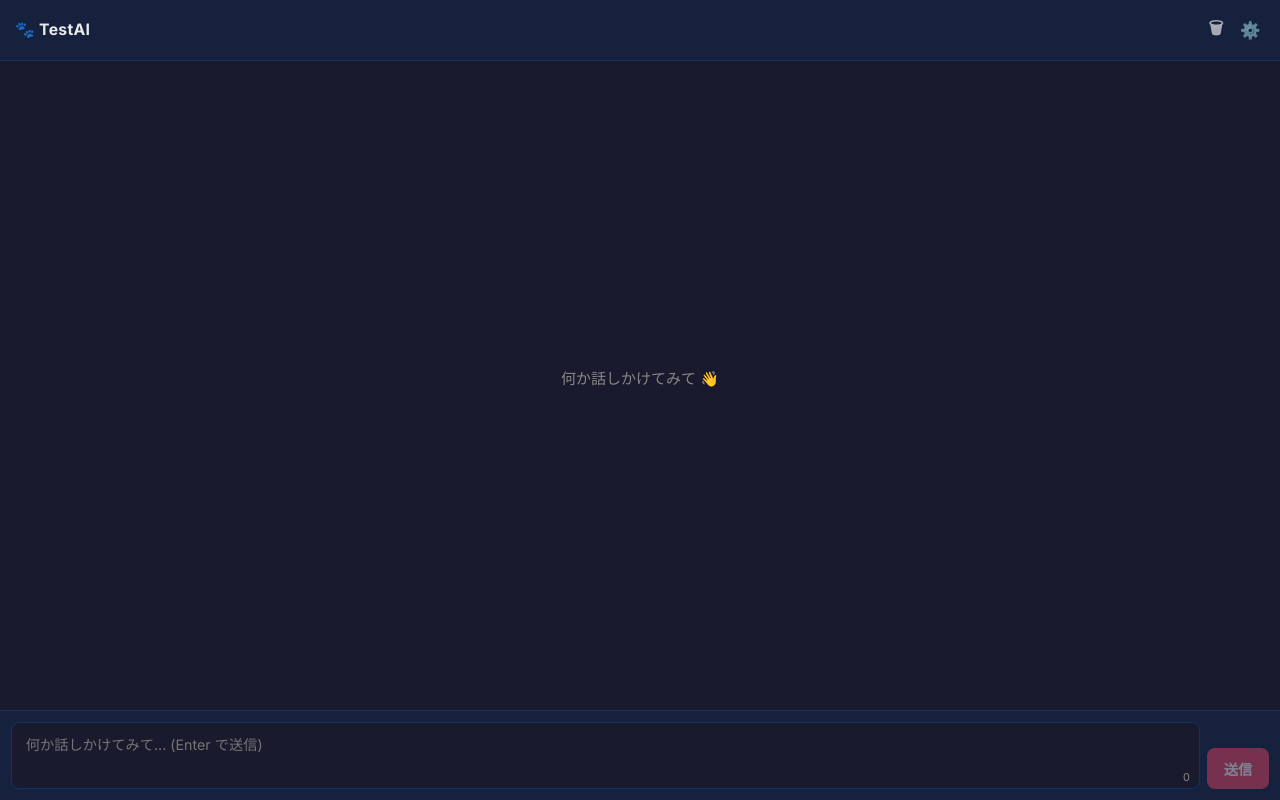
Scenario: Character counter › updates count as user types
Type "hello" into the text box with placeholder "何か話しかけてみて... (Enter で送信)".
click(606, 755); type("hello")  # box 11,722 -> 1200,789
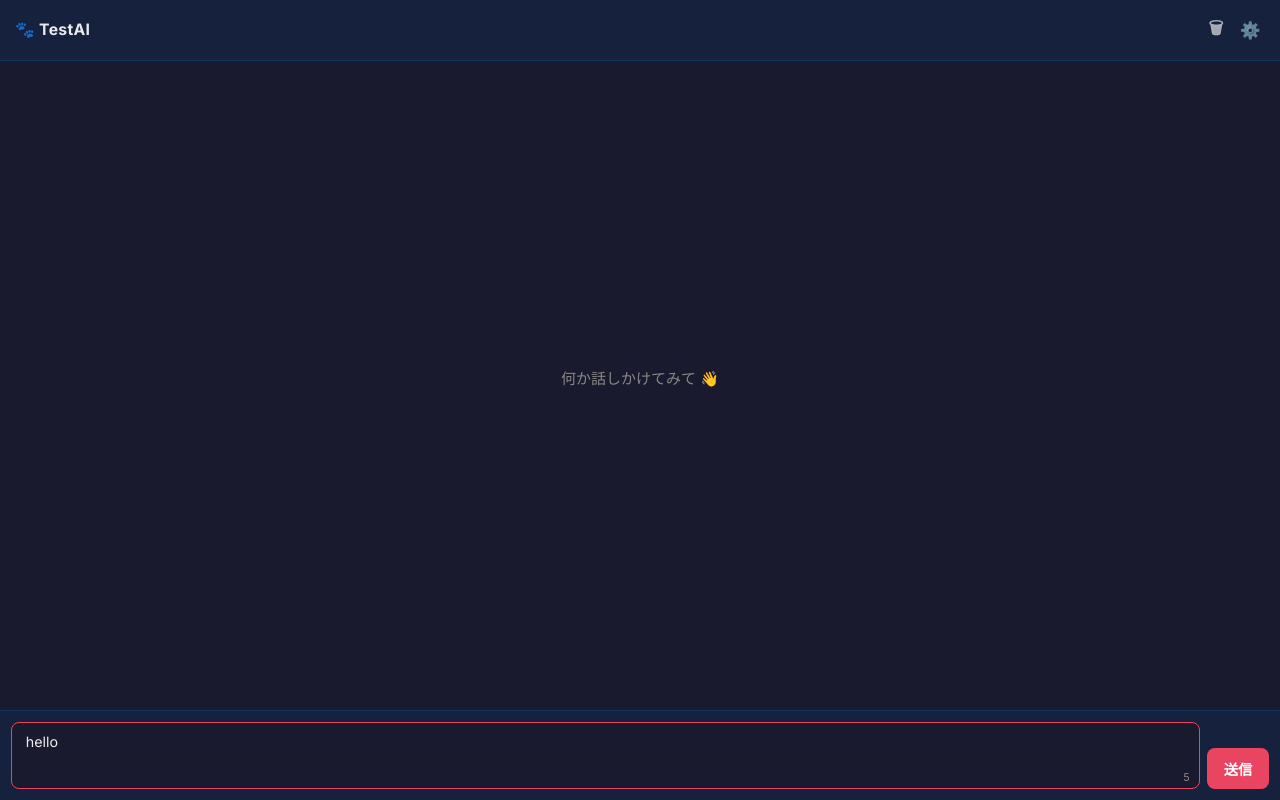
Expected: the text "5" is shown, 1183,771 -> 1190,784
